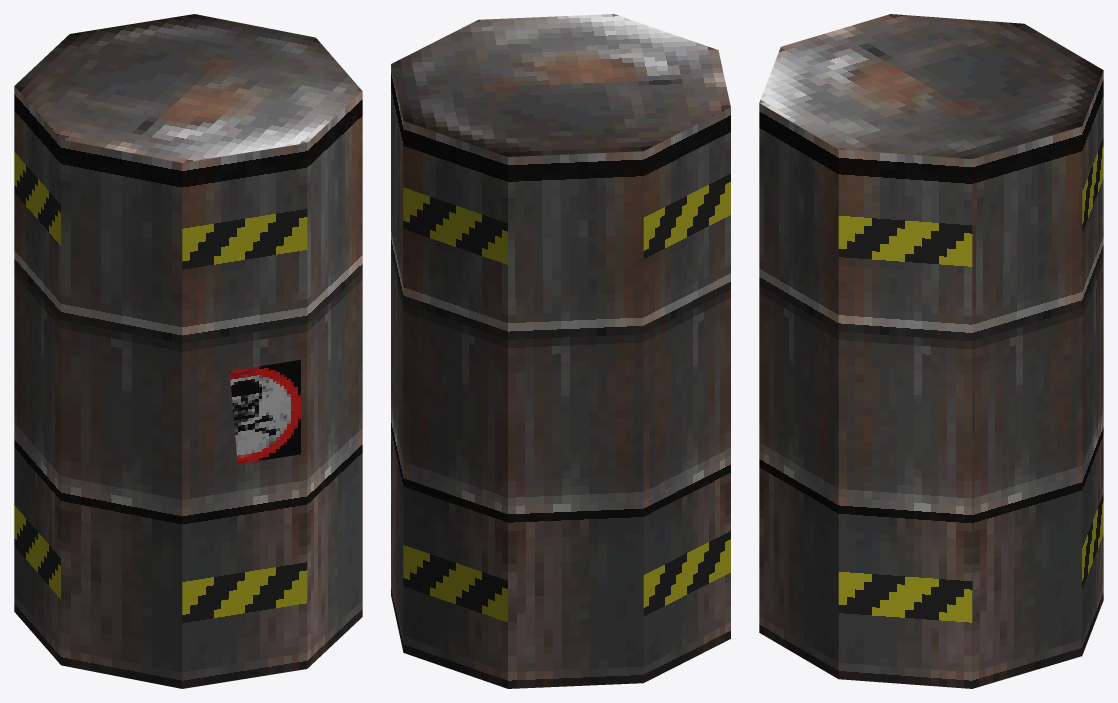
Rendered from primary_033.glb.
3 renders of one model, left to right at view 1: azimuth 30°, elevation 25°; view 2: azimuth 150°, elevation 25°; view 3: azimuth 270°, elevation 25°, orthographic.
Visible parts, largest first — view 1: Object; view 2: Object; view 3: Object.
Part boxes in pixels (x1,y1,x2,y2): Object: (14,14,362,688); Object: (391,14,730,688); Object: (759,14,1103,688).
Bounding box in the file's own units: 0.9948 × 1.69 × 0.9978.
Materials: 9 (9 with a texture image).
